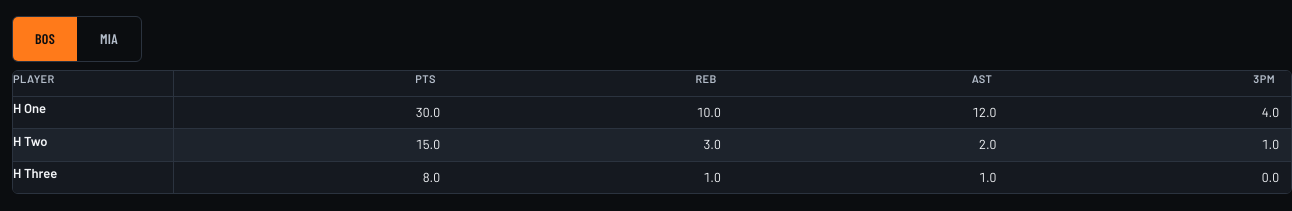
Scenario: PlayerBoxScore › shows one team at a time: home by default, away after the switch
Expected: the number of rows with test id "box-score-row" is 3, x1=13 y1=96 x2=1291 y2=128; x1=13 y1=128 x2=1291 y2=161; x1=13 y1=161 x2=1291 y2=193
Expected: the column heading "H One" is shown, x1=13 y1=96 x2=173 y2=128
Click the button "MIA".
click(109, 39)  # box x1=77 y1=17 x2=141 y2=61
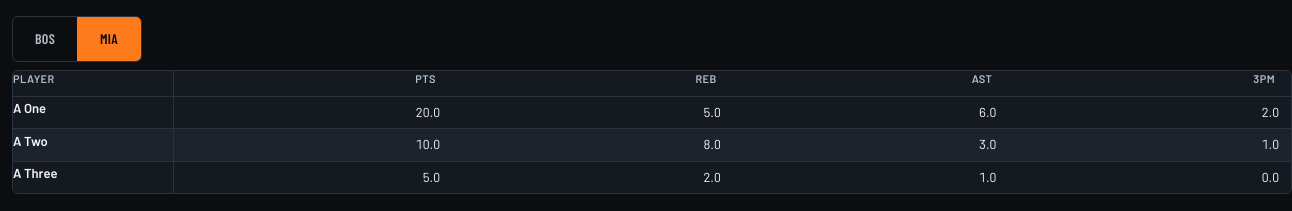
Expected: the column heading "A One" is shown, x1=13 y1=96 x2=173 y2=128
Expected: the column heading "H One" is gone
